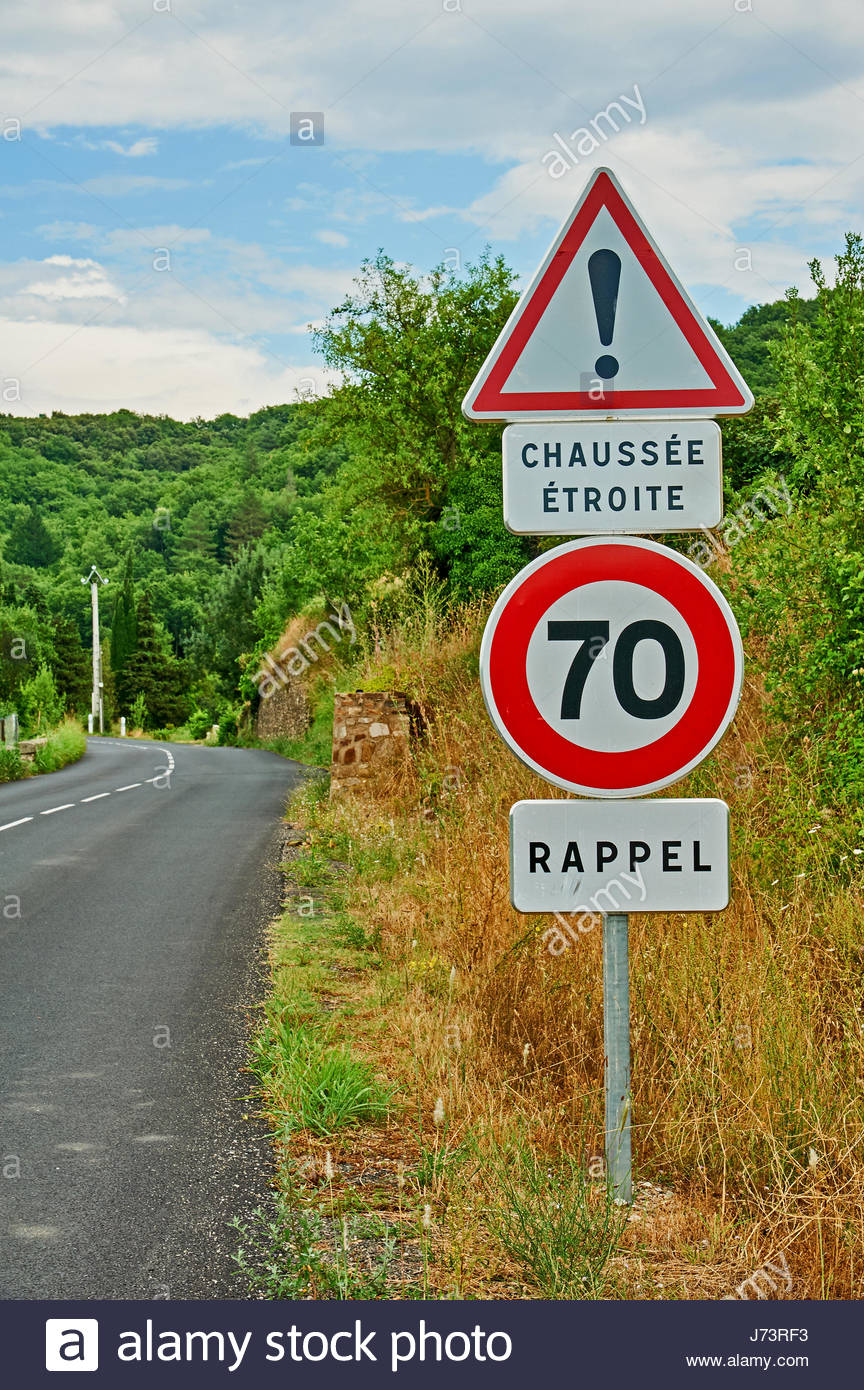speed_limit_70: (481, 537, 743, 802)
